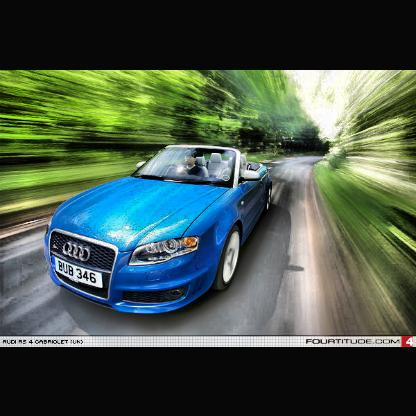Audi RS 4 Convertible 2008: (45, 143, 275, 314)
